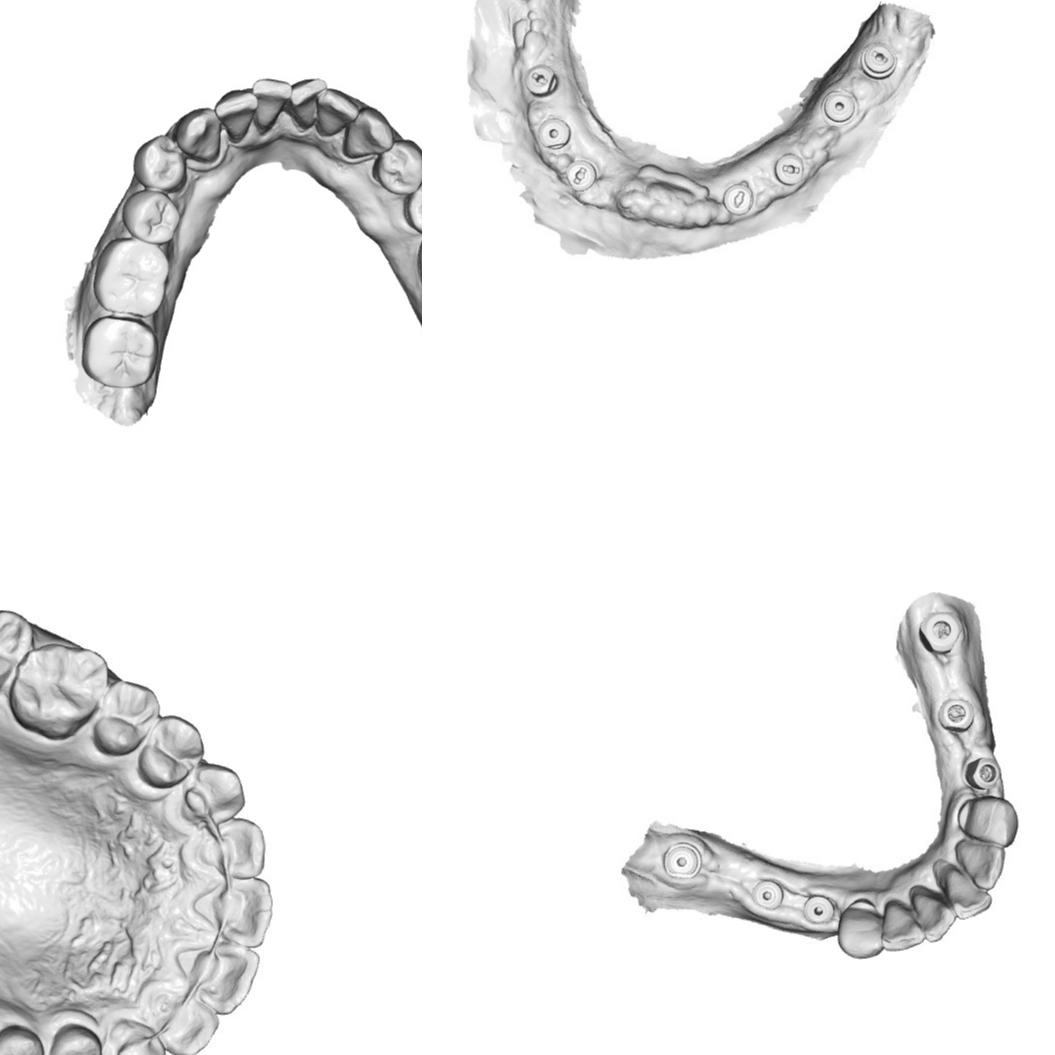canine: (176, 762, 247, 827), (343, 101, 395, 164), (957, 795, 1019, 845), (836, 901, 884, 961), (172, 109, 220, 165), (102, 1016, 165, 1055)
implant: (917, 610, 966, 656), (660, 840, 704, 880), (935, 696, 976, 734), (964, 755, 1002, 790), (534, 116, 573, 150), (750, 876, 784, 911), (801, 893, 837, 926), (823, 91, 858, 124)
implant_minus: (560, 161, 602, 194), (523, 62, 562, 97), (859, 44, 897, 79), (721, 181, 755, 217), (774, 152, 808, 186)
incisor: (194, 940, 260, 1015), (212, 877, 274, 948), (156, 995, 219, 1055), (212, 816, 266, 879), (249, 75, 295, 139), (941, 864, 993, 920), (213, 84, 259, 146), (314, 82, 360, 141), (289, 73, 328, 137), (957, 840, 1006, 890), (880, 901, 925, 952), (914, 891, 956, 943)
molar: (9, 642, 109, 740), (76, 311, 164, 401), (92, 235, 175, 324), (0, 601, 34, 700)
premolar: (90, 679, 160, 756), (137, 714, 204, 789), (129, 130, 190, 194), (120, 188, 187, 244), (370, 136, 422, 199), (45, 1021, 105, 1055), (0, 1024, 45, 1055), (403, 179, 422, 235)
